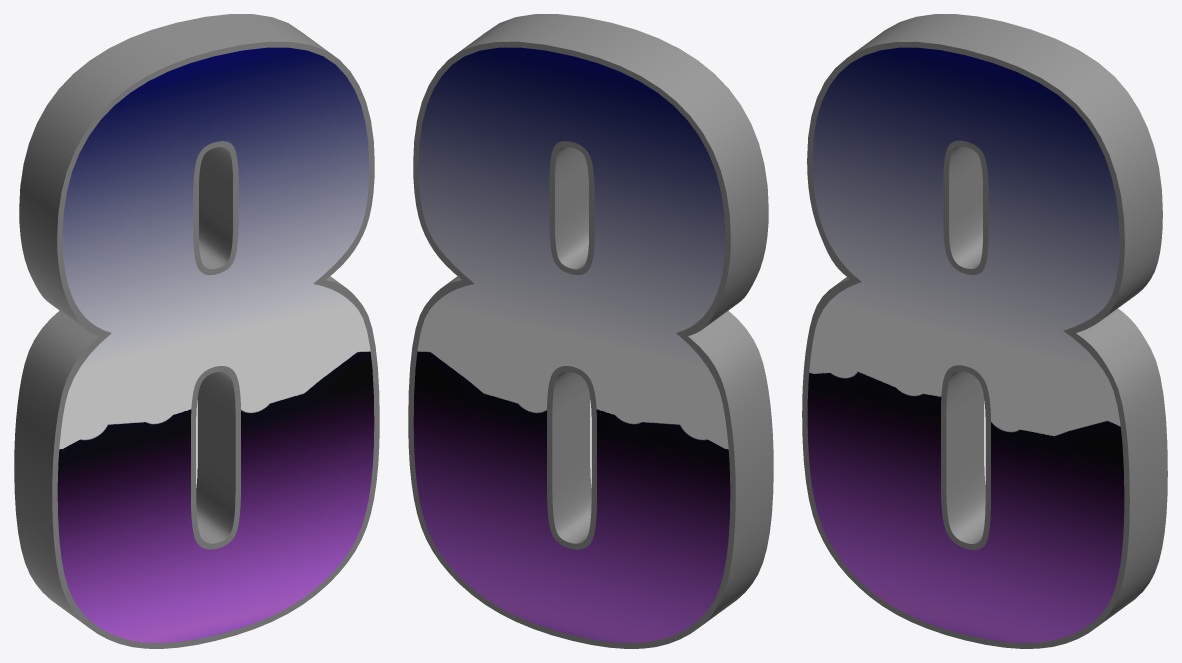
The picture shows the model from 3 angles, left to right: view 1: azimuth 30°, elevation 25°; view 2: azimuth 150°, elevation 25°; view 3: azimuth 330°, elevation 25°; orthographic projection.
Visible parts, largest first — view 1: 8, 8_outline; view 2: 8, 8_outline; view 3: 8, 8_outline.
Part boxes in pixels (x1,y1,x2,y2): 8: [57, 47, 374, 642]; 8_outline: [14, 14, 379, 648]; 8: [413, 47, 730, 642]; 8_outline: [408, 14, 773, 648]; 8: [807, 47, 1124, 642]; 8_outline: [802, 14, 1167, 648].
Bounding box in the file's own units: 59.75 × 103 × 12.
2 materials, 1 textured.
